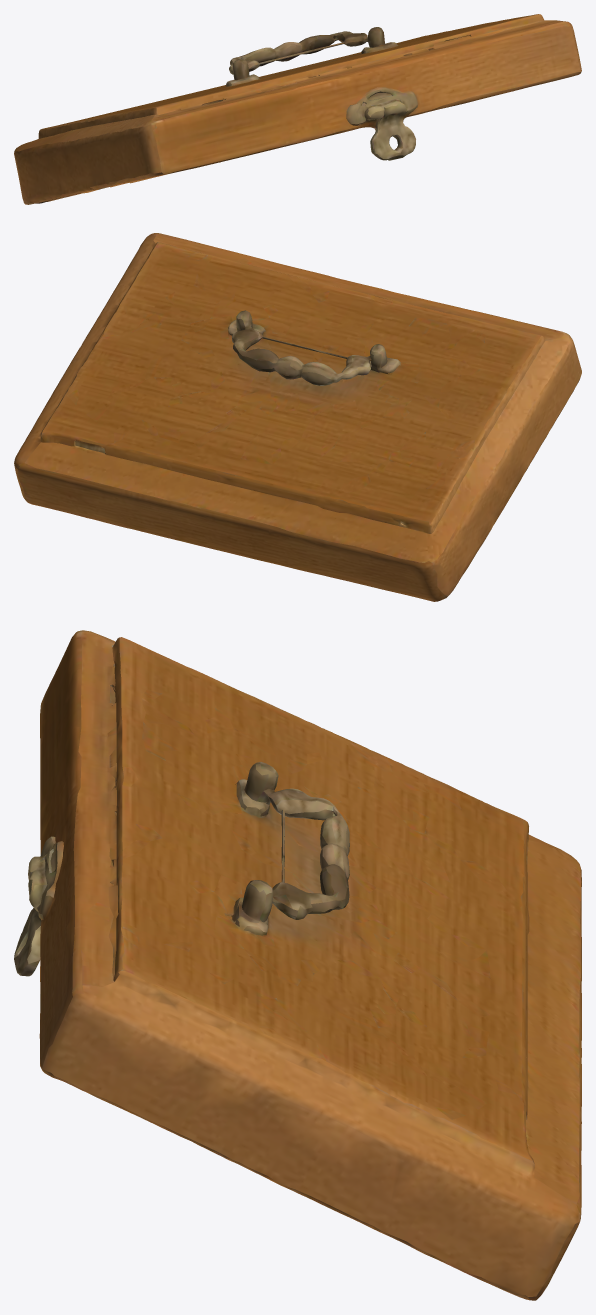
File: lid.glb
The picture shows the model from 3 angles, top to bottom: view 1: azimuth 30°, elevation 25°; view 2: azimuth 150°, elevation 25°; view 3: azimuth 270°, elevation 25°; orthographic projection. The views are drawn at different scales.
Parts seen in each view (by area): view 1: world; view 2: world; view 3: world.
Boxes of the visible parts, x1,y1,x2,y2 form: world: (14,14,581,204); world: (14,233,581,601); world: (14,630,581,1300).
Size of the model in its own units: 0.32 by 0.1293 by 0.2058.
1 material, 1 textured.
